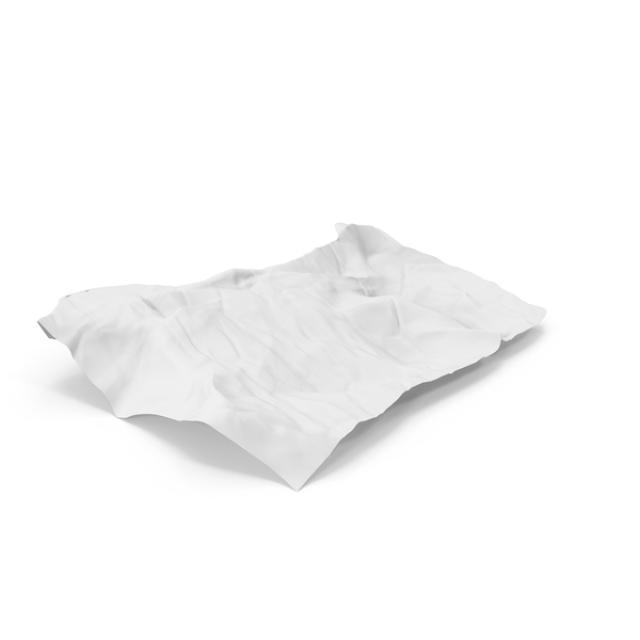Paper: (35, 223, 548, 493)
